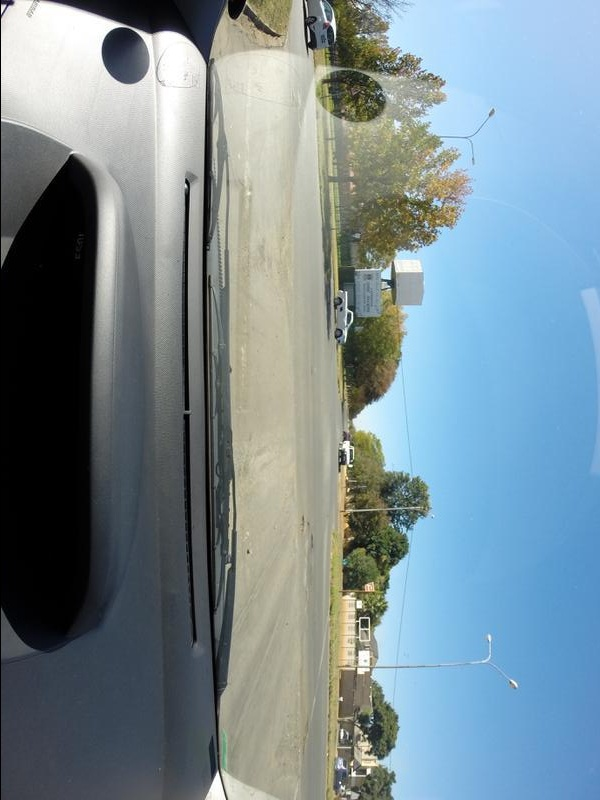pothole: (297, 508, 311, 537), (299, 534, 321, 551)
